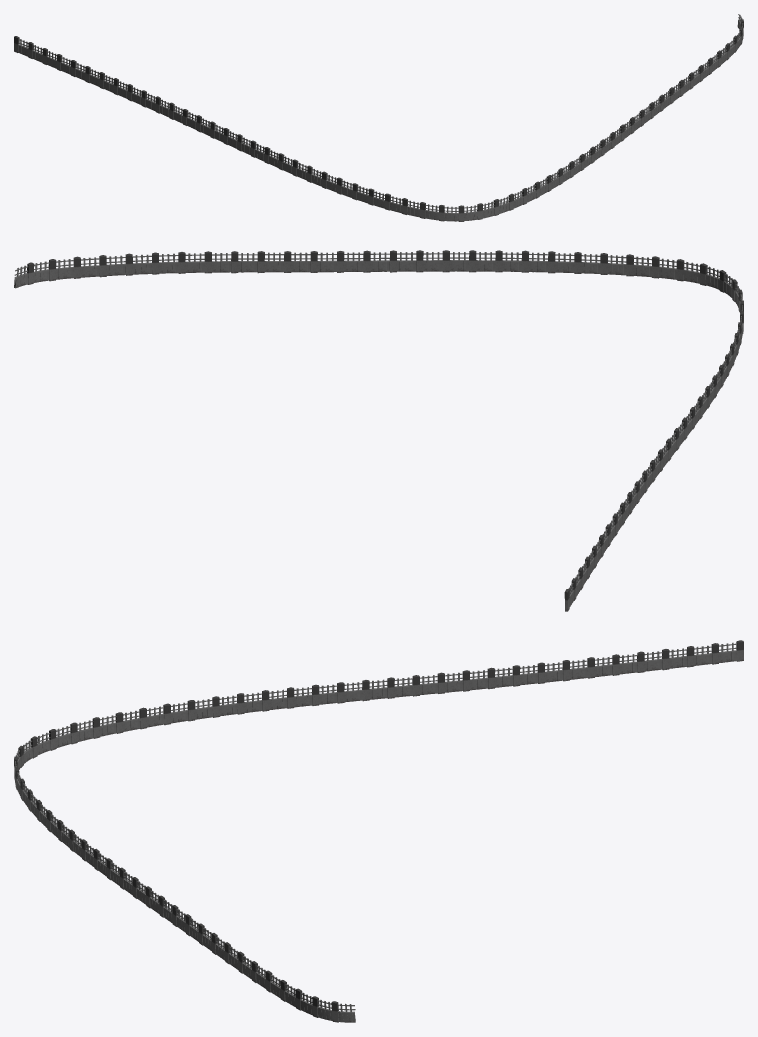
File: Pagarinvisible.fbx
3 views of the same model, one above another, from view 1: azimuth 30°, elevation 25°; view 2: azimuth 150°, elevation 25°; view 3: azimuth 270°, elevation 25° (orthographic). The views are drawn at different scales.
Visible parts, largest first — view 1: Besi Pagar.005; view 2: Besi Pagar.005; view 3: Besi Pagar.005.
Boxes of the visible parts, bbox=[...] form: Besi Pagar.005: bbox=[14, 14, 743, 221]; Besi Pagar.005: bbox=[14, 250, 743, 611]; Besi Pagar.005: bbox=[14, 640, 743, 1022].
Bounding box in the file's own units: 17922 × 677 × 15471.
